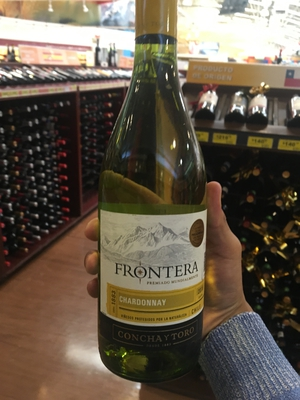frontera chardonnay: (79, 5, 222, 364)
